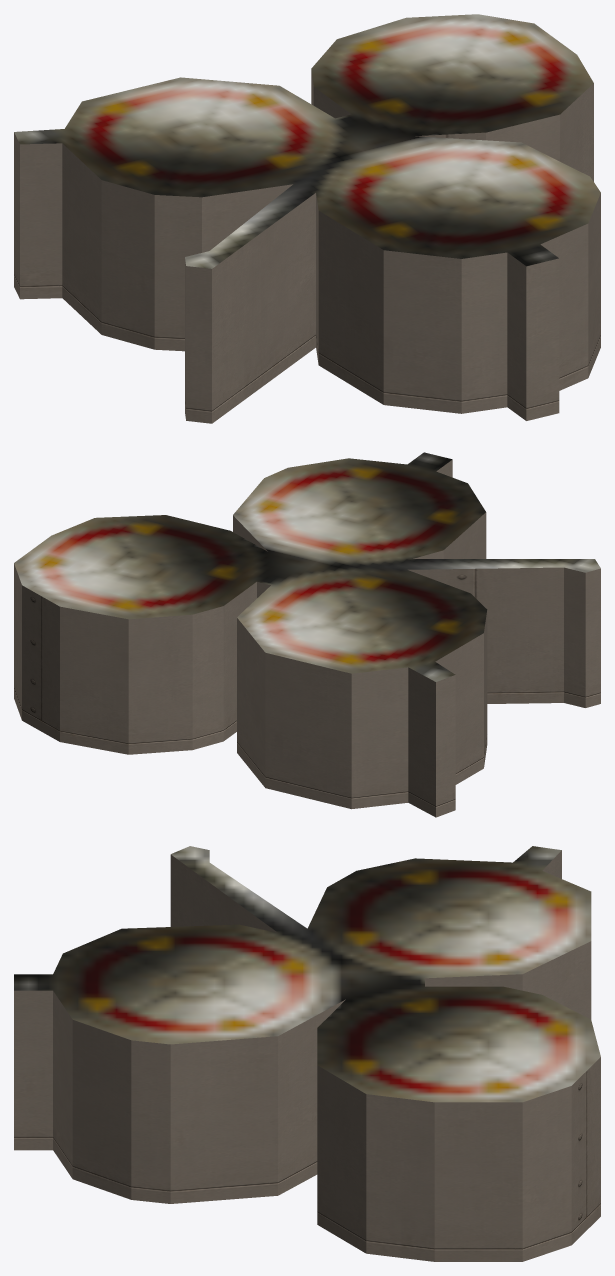
Rendered from fuel_tank_light_56.glb.
The picture shows the model from 3 angles, top to bottom: view 1: azimuth 30°, elevation 25°; view 2: azimuth 150°, elevation 25°; view 3: azimuth 270°, elevation 25°; orthographic projection. The views are drawn at different scales.
Parts seen in each view (by area): view 1: buildings/saxarba/fuel_tanks/fuel_tank_light_56; view 2: buildings/saxarba/fuel_tanks/fuel_tank_light_56; view 3: buildings/saxarba/fuel_tanks/fuel_tank_light_56.
Part boxes in pixels (box(x1,y1,x2,y2)): buildings/saxarba/fuel_tanks/fuel_tank_light_56: box(14, 14, 600, 423); buildings/saxarba/fuel_tanks/fuel_tank_light_56: box(14, 452, 600, 817); buildings/saxarba/fuel_tanks/fuel_tank_light_56: box(14, 846, 600, 1261).
Bounding box in the file's own units: 62 × 18 × 60.
